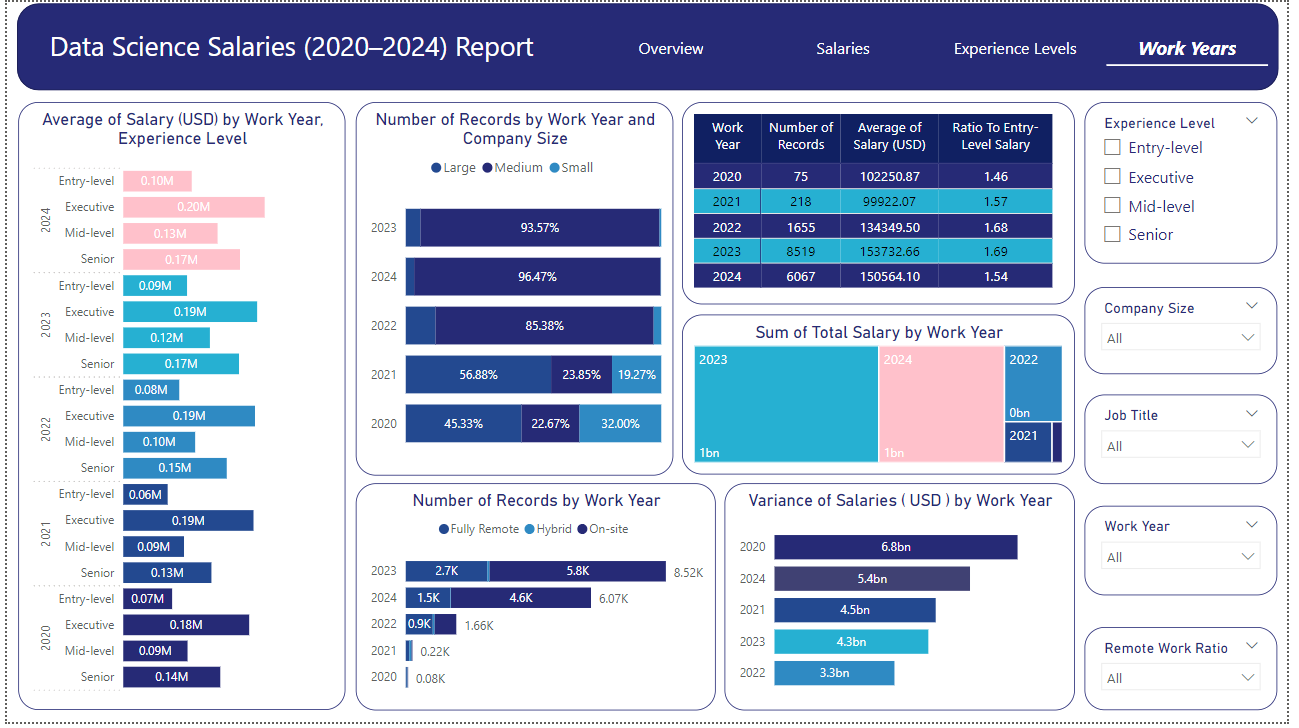

The dashboard page shown, as its layout file describes it:
{"tool":"powerbi","page":{"name":"Work Years","canvas":[1280,720],"ordinal":3},"visuals":[{"type":"shape","box":[10.5,1.2,1261.6,87.2],"z":0},{"type":"textbox","box":[30.2,20.5,509.1,45.8],"z":1000},{"type":"hundredPercentStackedBarChart","title":"Number of Records by Work Year and  Company Size","fields":{"Category":["Dataset salary 2024.Work Year"],"Y":["CountNonNull(Dataset salary 2024.Company Size)"],"Series":["Dataset salary 2024.Company Size"]},"box":[348.8,100,317.5,373.8],"z":2000},{"type":"treemap","title":"Sum of Total Salary by Work Year","fields":{"Group":["Dataset salary 2024.Work Year"],"Values":["Sum(Dataset salary 2024.Salary)"]},"box":[675,312.5,392.5,160],"z":3000},{"type":"barChart","title":"Average of Salary (USD) by Work Year, Experience Level","fields":{"Category":["Dataset salary 2024.Work Year","Dataset salary 2024.Experience Level"],"Y":["Avg(Dataset salary 2024.Salary (USD))"],"Series":["Dataset salary 2024.Work Year"]},"box":[10.9,100.1,326.9,608],"z":4000},{"type":"slicer","fields":{"Values":["Dataset salary 2024.Company Size"]},"box":[1077.4,284.7,193,86.9],"z":5000},{"type":"slicer","fields":{"Values":["Dataset salary 2024.Job Title"]},"box":[1077.4,392.1,193,89.3],"z":6000},{"type":"slicer","fields":{"Values":["Dataset salary 2024.Work Year"]},"box":[1077.4,504.3,193,89.3],"z":7000},{"type":"slicer","fields":{"Values":["Dataset salary 2024.Remote Work Ratio"]},"box":[1077.4,624.9,193,83.2],"z":8000},{"type":"slicer","fields":{"Values":["Dataset salary 2024.Experience Level"]},"box":[1077.4,100.1,193,161.7],"z":9000},{"type":"barChart","title":"Variance of Salaries ( USD ) by  Work Year","fields":{"Category":["Dataset salary 2024.Work Year"],"Y":["Sum(Dataset salary 2024.Salary (USD))"],"Series":["Dataset salary 2024.Work Year"]},"box":[717.5,481.2,350,227.5],"z":10000},{"type":"pageNavigator","box":[576.7,20.1,694.8,51.5],"z":11000},{"type":"pivotTable","fields":{"Rows":["Dataset salary 2024.Work Year"],"Values":["CountNonNull(Dataset salary 2024.Salary)","Avg(Dataset salary 2024.Salary (USD))","Dataset salary 2024.Ratio To Entry-Level Salary"]},"box":[675,100,392.5,202.5],"z":12000},{"type":"barChart","title":"Number of Records by Work Year ","fields":{"Category":["Dataset salary 2024.Work Year"],"Y":["CountNonNull(Dataset salary 2024.Remote Work Ratio)"],"Series":["Dataset salary 2024.Remote Work Ratio"]},"box":[348.8,481.2,360,227.5],"z":13000}]}

Visuals, with their boxes in screenshot pixels (x1, y1, x2, y2), scaled from the page's 1280x720 canvas onto the 1299x728 screenshot:
shape: (11,1,1291,89)
textbox: (31,21,547,67)
"Number of Records by Work Year and  Company Size" hundredPercentStackedBarChart: (354,101,676,479)
"Sum of Total Salary by Work Year" treemap: (685,316,1083,478)
"Average of Salary (USD) by Work Year, Experience Level" barChart: (11,101,343,716)
slicer - Dataset salary 2024.Company Size: (1093,288,1289,376)
slicer - Dataset salary 2024.Job Title: (1093,396,1289,487)
slicer - Dataset salary 2024.Work Year: (1093,510,1289,600)
slicer - Dataset salary 2024.Remote Work Ratio: (1093,632,1289,716)
slicer - Dataset salary 2024.Experience Level: (1093,101,1289,265)
"Variance of Salaries ( USD ) by  Work Year" barChart: (728,487,1083,717)
pageNavigator: (585,20,1290,72)
pivotTable - Dataset salary 2024.Work Year x CountNonNull(Dataset salary 2024.Salary): (685,101,1083,306)
"Number of Records by Work Year " barChart: (354,487,719,717)
